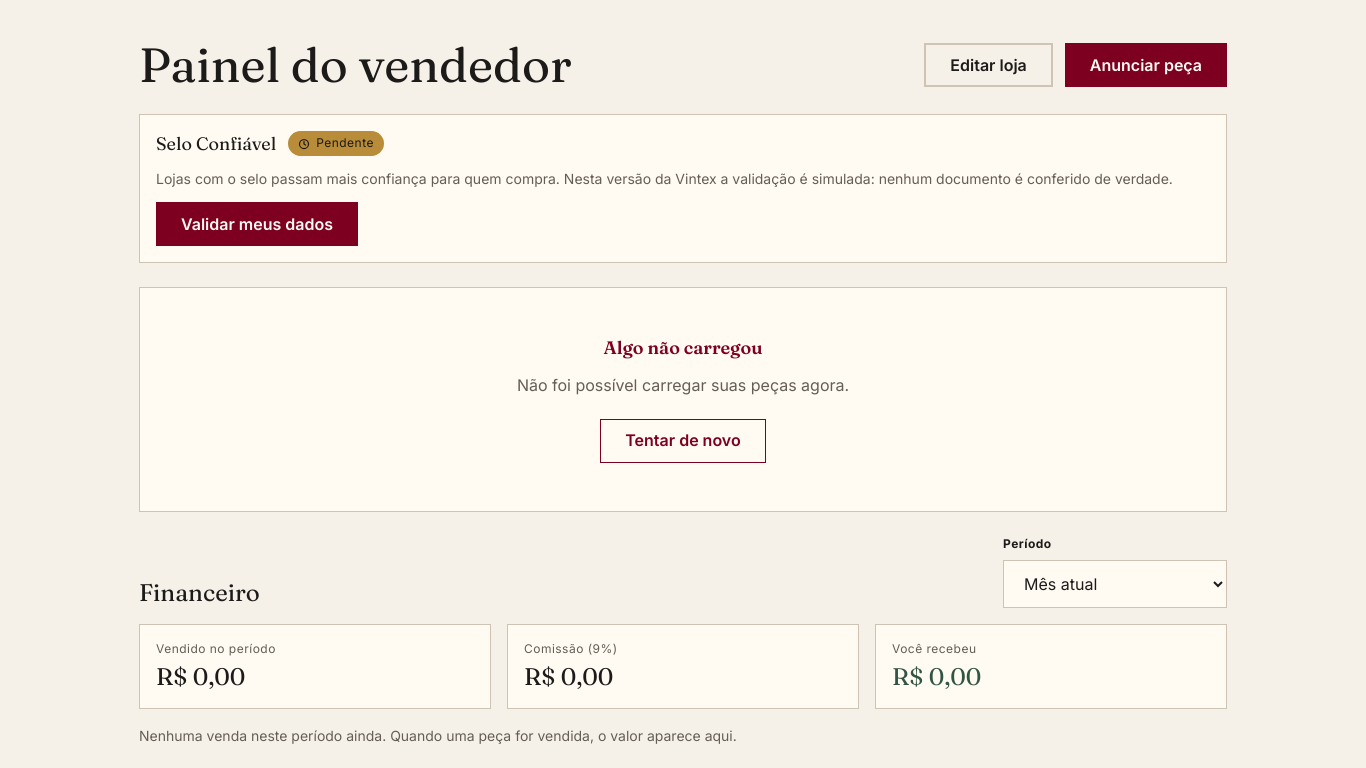
Test: <SellerAdmin /> › mostra ErrorState com retry quando a busca falha
Click the button "Tentar de novo": {"x": 683, "y": 441} top-left (600, 419), bottom-right (766, 463)
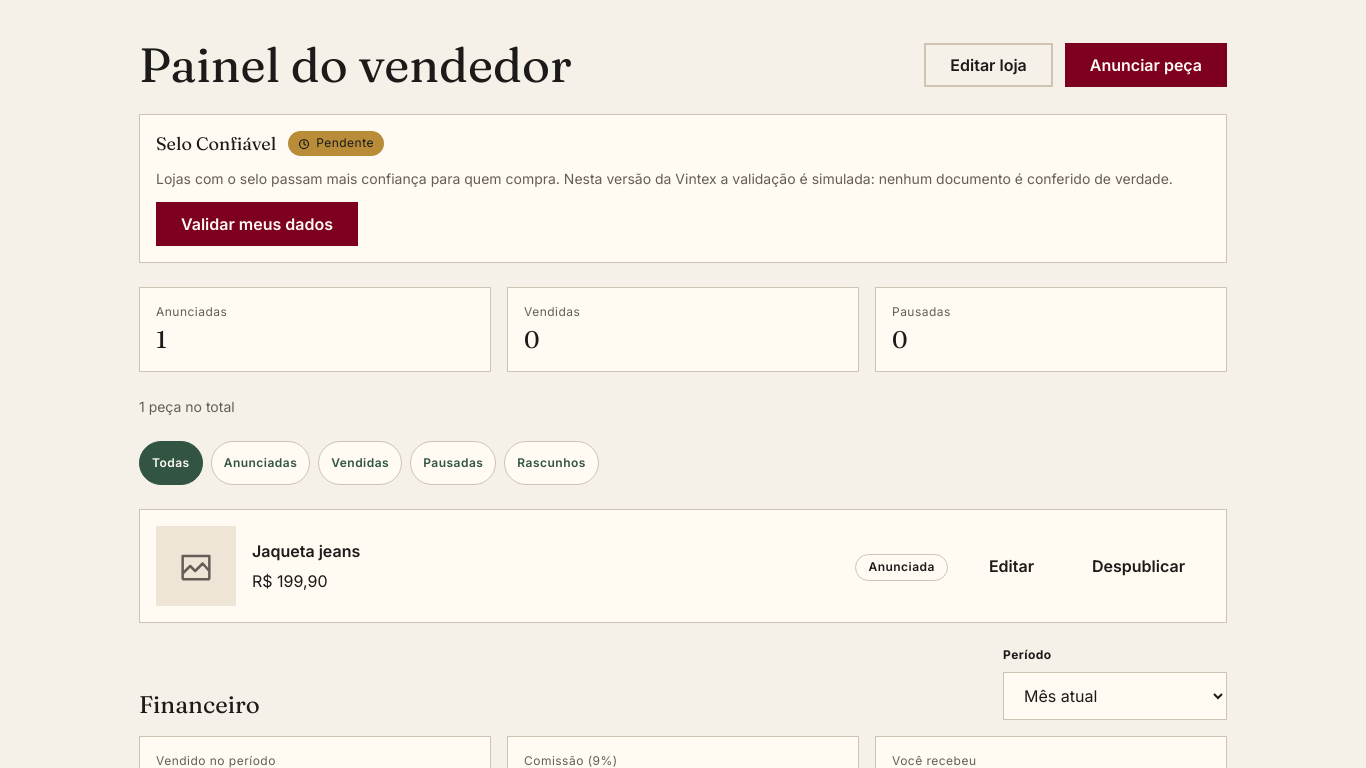
Expected: the button "Jaqueta jeans" is shown, top-left (252, 538), bottom-right (360, 564)
